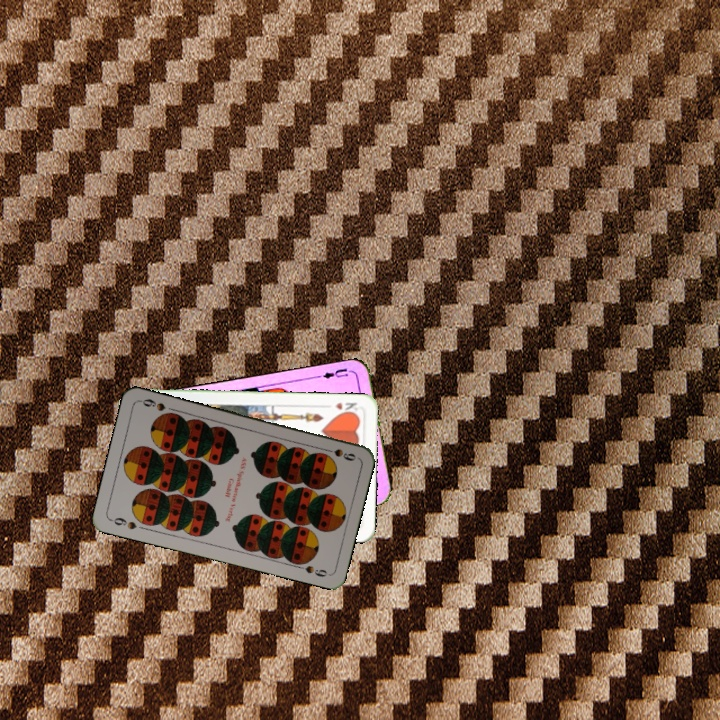EU: (319, 364, 350, 381)
HK: (331, 398, 360, 417)
S9: (319, 444, 359, 463), (107, 513, 139, 532)
